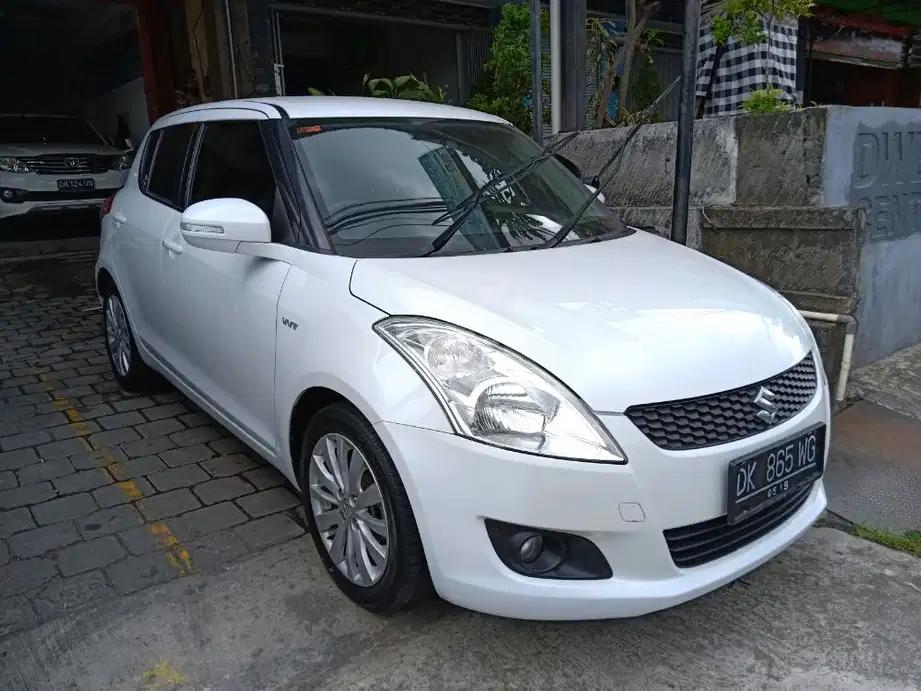plate: (730, 423, 825, 524)
